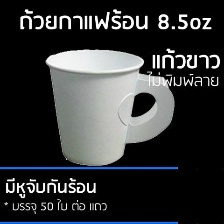paper_cup: (38, 44, 182, 167)
